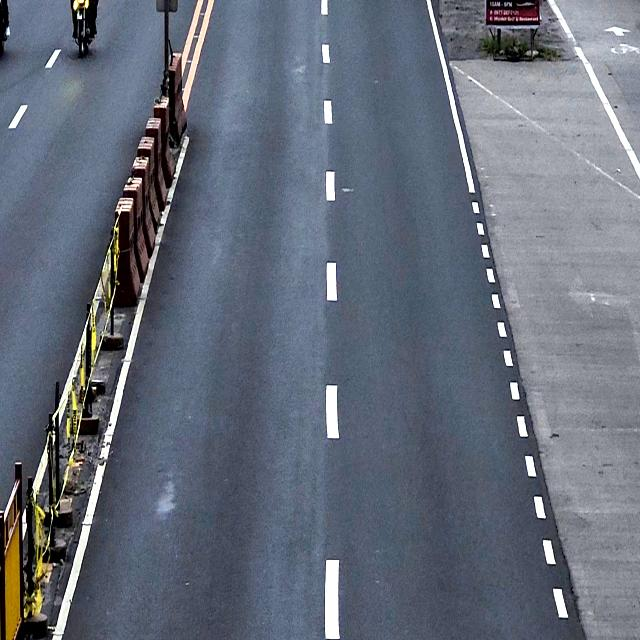Motorcycle: (69, 0, 98, 57)
